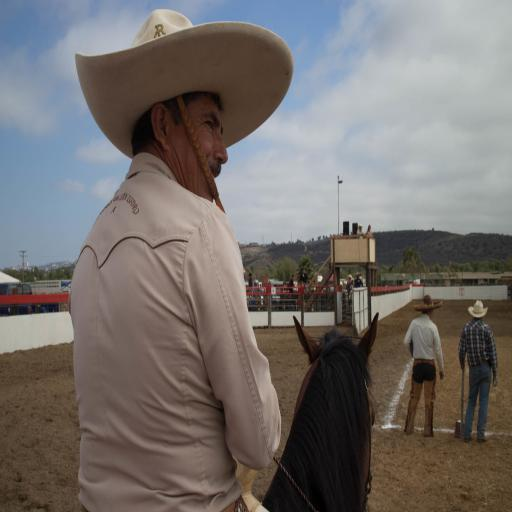horse: (260, 313, 380, 512)
